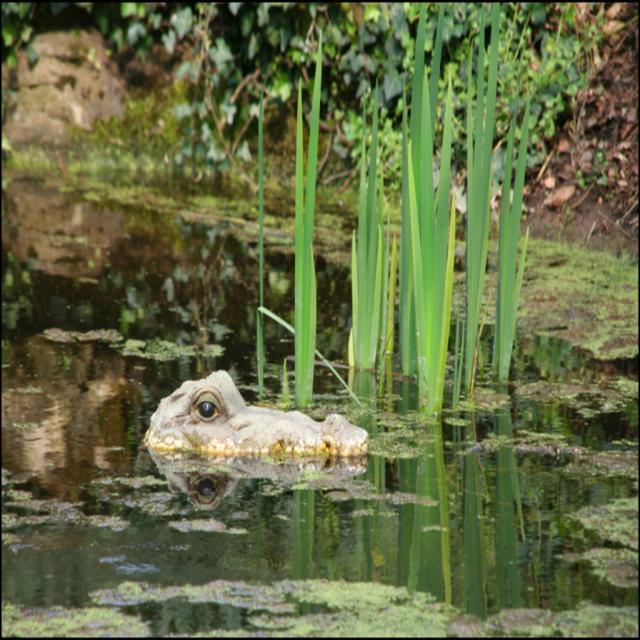crocodile: (129, 356, 422, 493)
